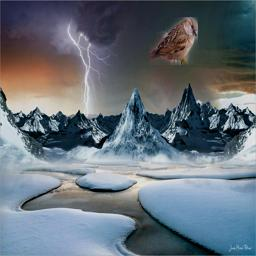Sparrow: (149, 17, 198, 65)
